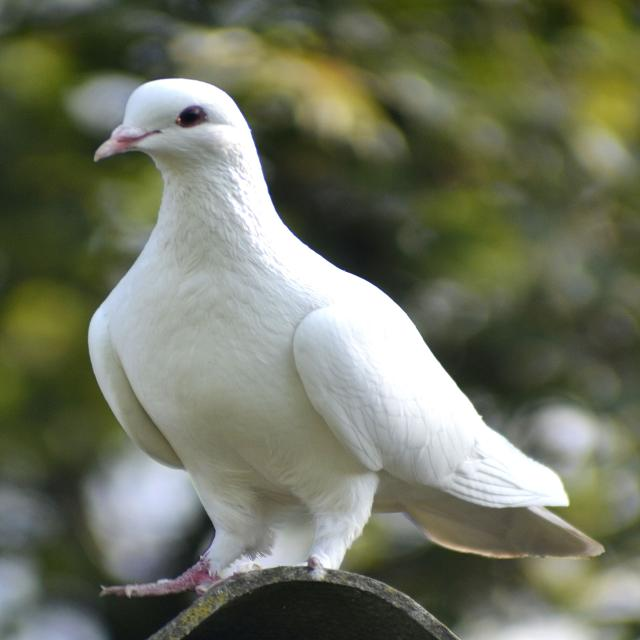Pigeon: (83, 79, 605, 595)
